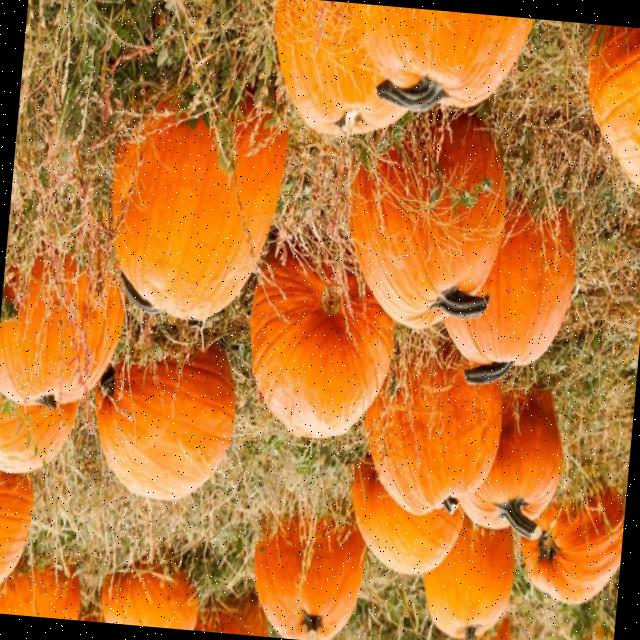pumpkin: (110, 101, 287, 316), (349, 114, 504, 327), (248, 253, 392, 437), (444, 205, 574, 383), (93, 342, 234, 499), (364, 362, 501, 514), (351, 3, 532, 109), (0, 255, 123, 404), (273, 0, 405, 134), (459, 388, 561, 537), (252, 516, 363, 640), (352, 456, 462, 571), (519, 488, 625, 603), (422, 517, 513, 640), (587, 25, 640, 186), (100, 565, 197, 630), (0, 400, 77, 472), (0, 565, 79, 619), (0, 470, 32, 581), (194, 593, 267, 636), (488, 617, 509, 640)
